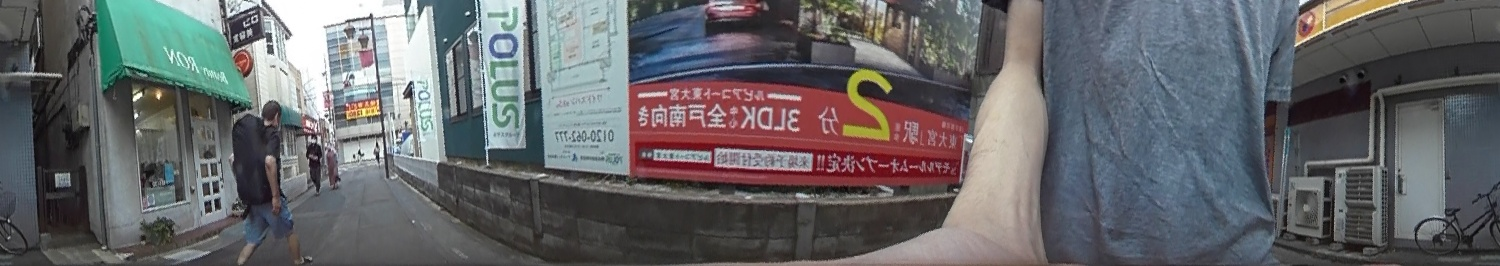person: (236, 97, 303, 263), (306, 133, 324, 191), (325, 141, 340, 189)
